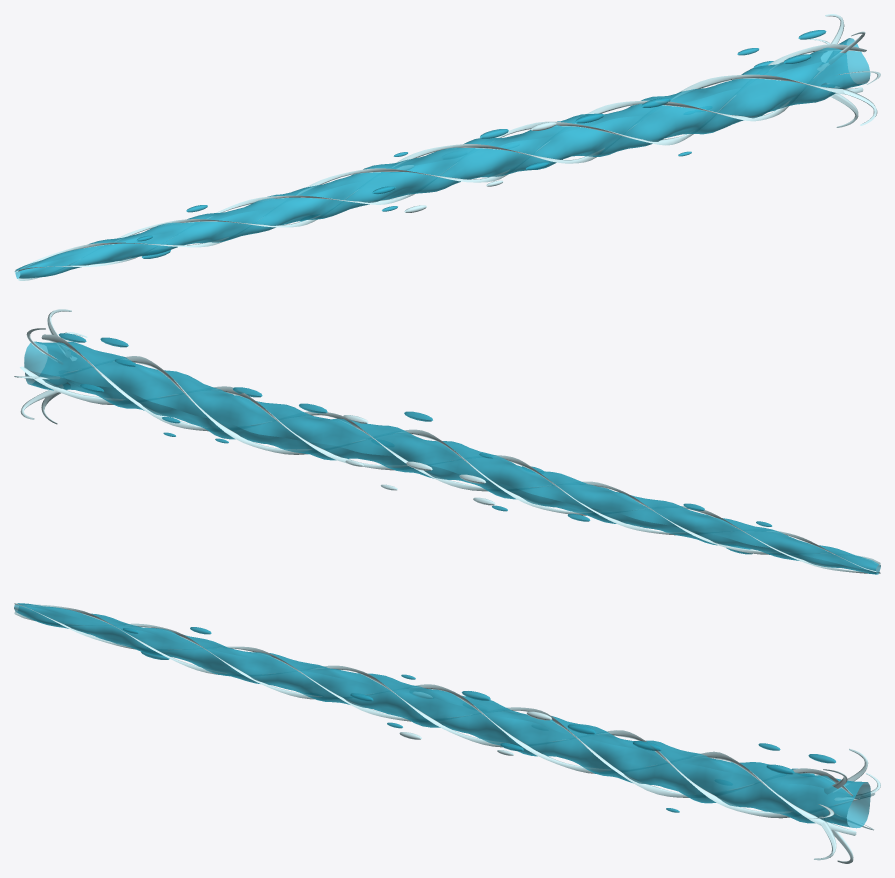
File: naia-healing-stream.glb
3 renders of one model, top to bottom at view 1: azimuth 30°, elevation 25°; view 2: azimuth 150°, elevation 25°; view 3: azimuth 330°, elevation 25°, orthographic.
Parts seen in each view (by area): view 1: Translucent continuous water, Flowing foam ribbon 3, Flowing foam ribbon 1, Flowing foam ribbon 2; view 2: Translucent continuous water, Flowing foam ribbon 1, Flowing foam ribbon 2, Flowing foam ribbon 3; view 3: Translucent continuous water, Flowing foam ribbon 3, Flowing foam ribbon 1, Flowing foam ribbon 2.
Boxes of the visible parts, x1,y1,x2,y2 form: Translucent continuous water: (15,38,870,278); Flowing foam ribbon 3: (18,74,863,280); Flowing foam ribbon 1: (14,64,829,272); Flowing foam ribbon 2: (18,44,866,271); Translucent continuous water: (24,341,880,574); Flowing foam ribbon 1: (20,366,876,571); Flowing foam ribbon 2: (41,334,880,565); Flowing foam ribbon 3: (67,356,880,573); Translucent continuous water: (14,603,870,828); Flowing foam ribbon 3: (14,611,856,835); Flowing foam ribbon 1: (27,604,874,818); Flowing foam ribbon 2: (14,603,852,797).
Bounding box in the file's own units: 7.02 × 0.832 × 0.8484.
